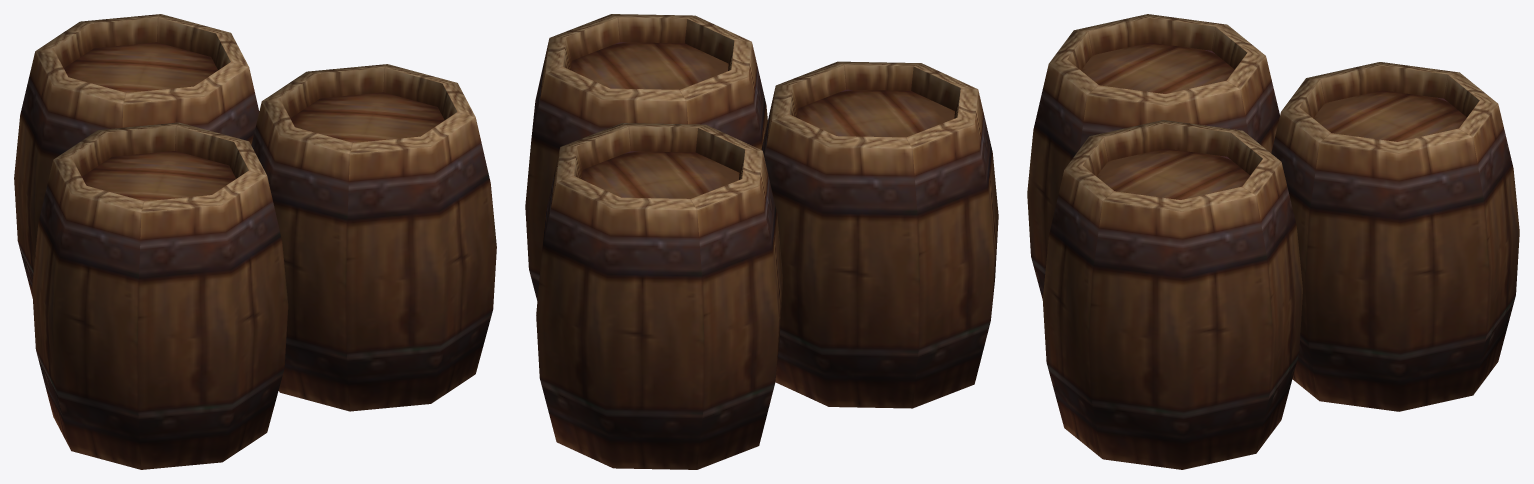
Rendered from Dungeons_03_02_16.FBX.
3 renders of one model, left to right at view 1: azimuth 30°, elevation 25°; view 2: azimuth 150°, elevation 25°; view 3: azimuth 270°, elevation 25°, orthographic.
Parts seen in each view (by area): view 1: Object343; view 2: Object343; view 3: Object343.
Boxes of the visible parts, x1=… form: Object343: x1=14, y1=14, x2=496, y2=469; Object343: x1=525, y1=14, x2=998, y2=469; Object343: x1=1027, y1=14, x2=1519, y2=469.
Bounding box in the file's own units: 26.44 × 15.24 × 25.49.
